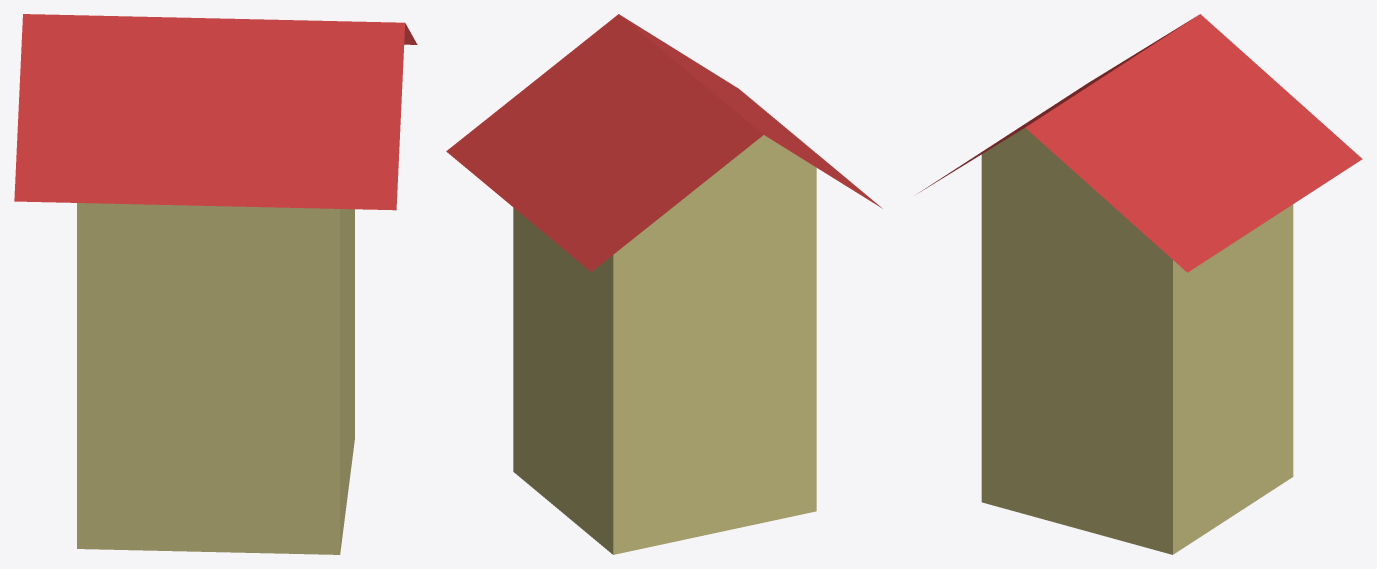
3 renders of one model, left to right at view 1: azimuth 30°, elevation 25°; view 2: azimuth 150°, elevation 25°; view 3: azimuth 270°, elevation 25°, orthographic. The views are drawn at different scales.
Size of the model in its own units: 6.71 by 6.75 by 6.81.
